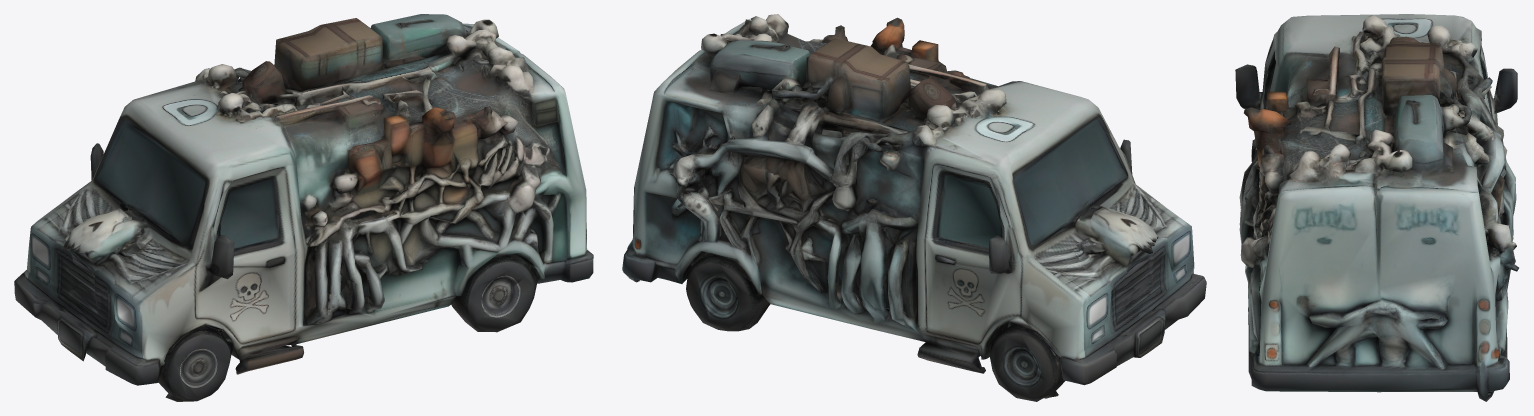
Rendered from Car_04.fbx.
3 views of the same model, side by side, from view 1: azimuth 30°, elevation 25°; view 2: azimuth 150°, elevation 25°; view 3: azimuth 270°, elevation 25° (orthographic). The views are drawn at different scales.
Visible parts, largest first — view 1: Mesh_0; view 2: Mesh_0; view 3: Mesh_0.
Part boxes in pixels (box(x1,y1,x2,y2)): Mesh_0: box(14, 14, 593, 401); Mesh_0: box(622, 14, 1206, 401); Mesh_0: box(1235, 14, 1518, 401).
Size of the model in its own units: 200 by 106 by 100.
Materials: 1 (1 with a texture image).
